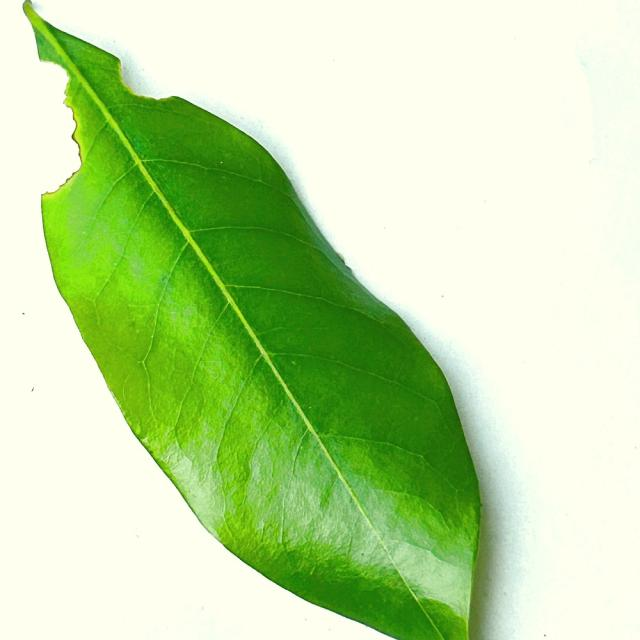Deficiency Leaf: (26, 47, 65, 195), (119, 49, 168, 99)
Lychee: (24, 3, 480, 639)
